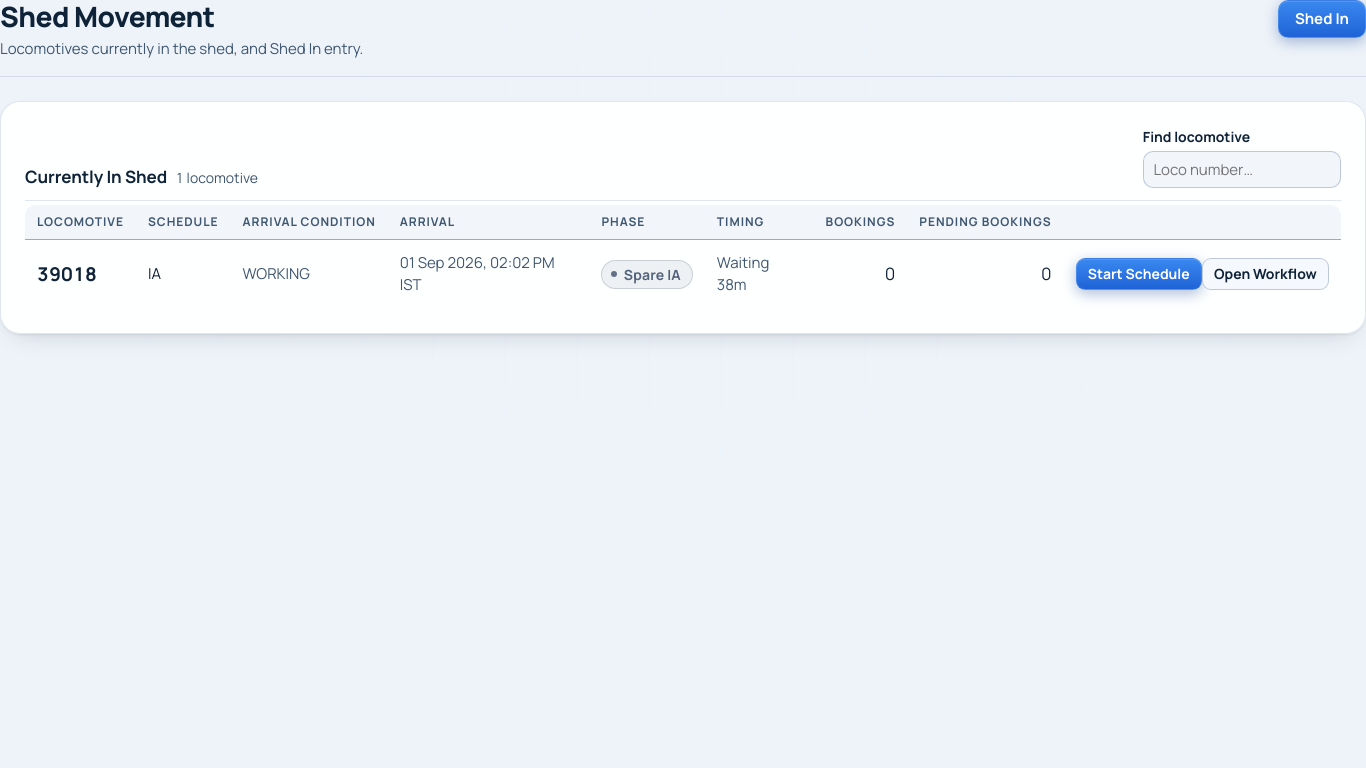
Test: Shed lifecycle phases › surfaces a backend rejection instead of silently advancing the phase
Step 1. Click the button "Start Schedule" → [1139, 274], box [1076,258,1202,290]
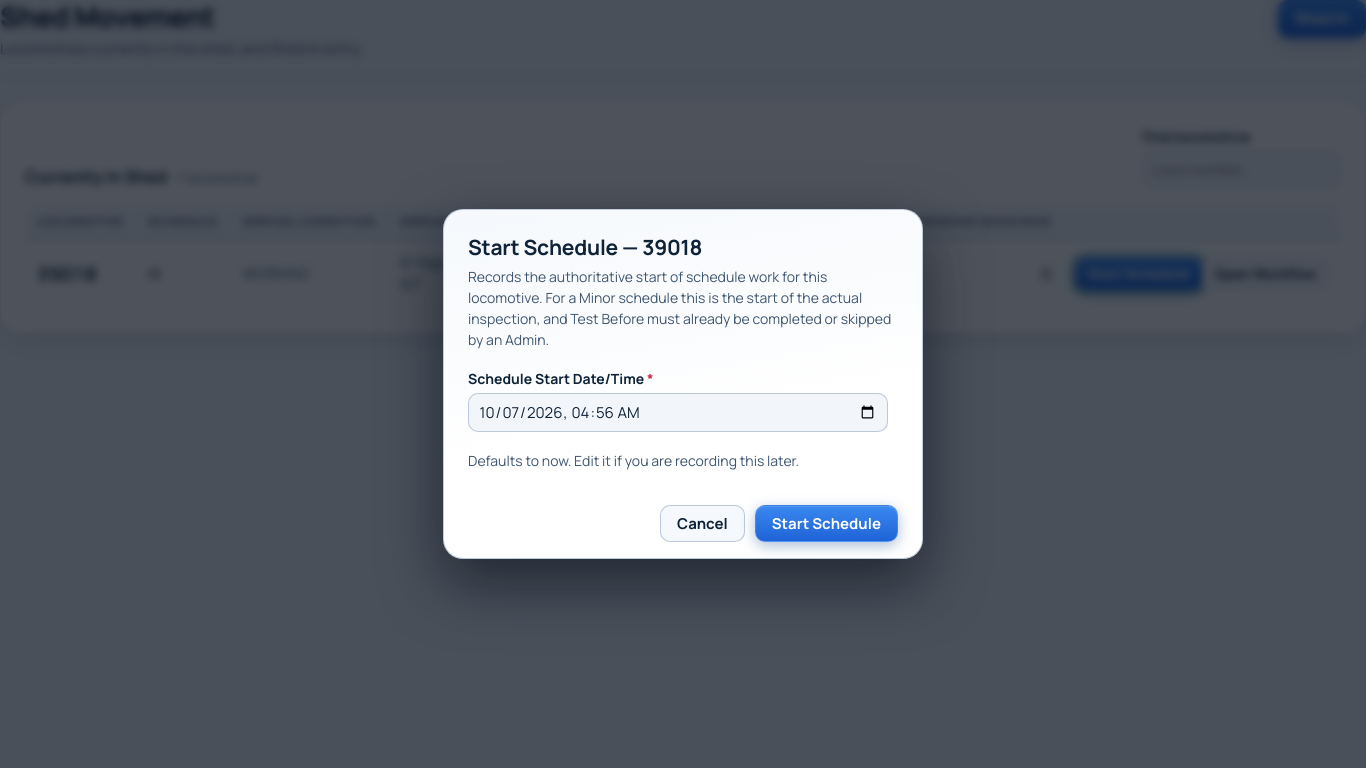
Step 2. Click the button "Start Schedule" → [826, 523], box [755,505,898,542]
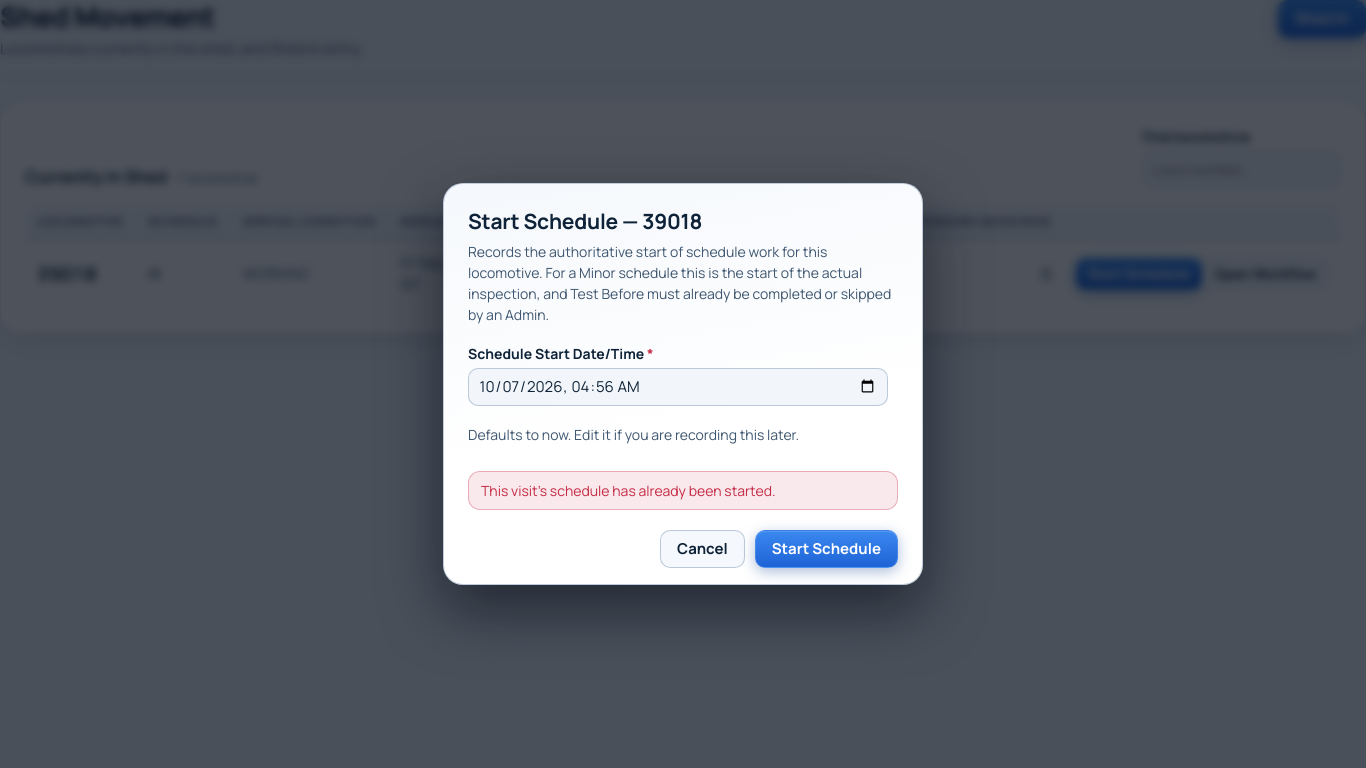
Expected: the dialog is shown, [443,183,923,585]
Expected: the message "This visit's schedule has already been started." is shown, [468,471,898,510]
